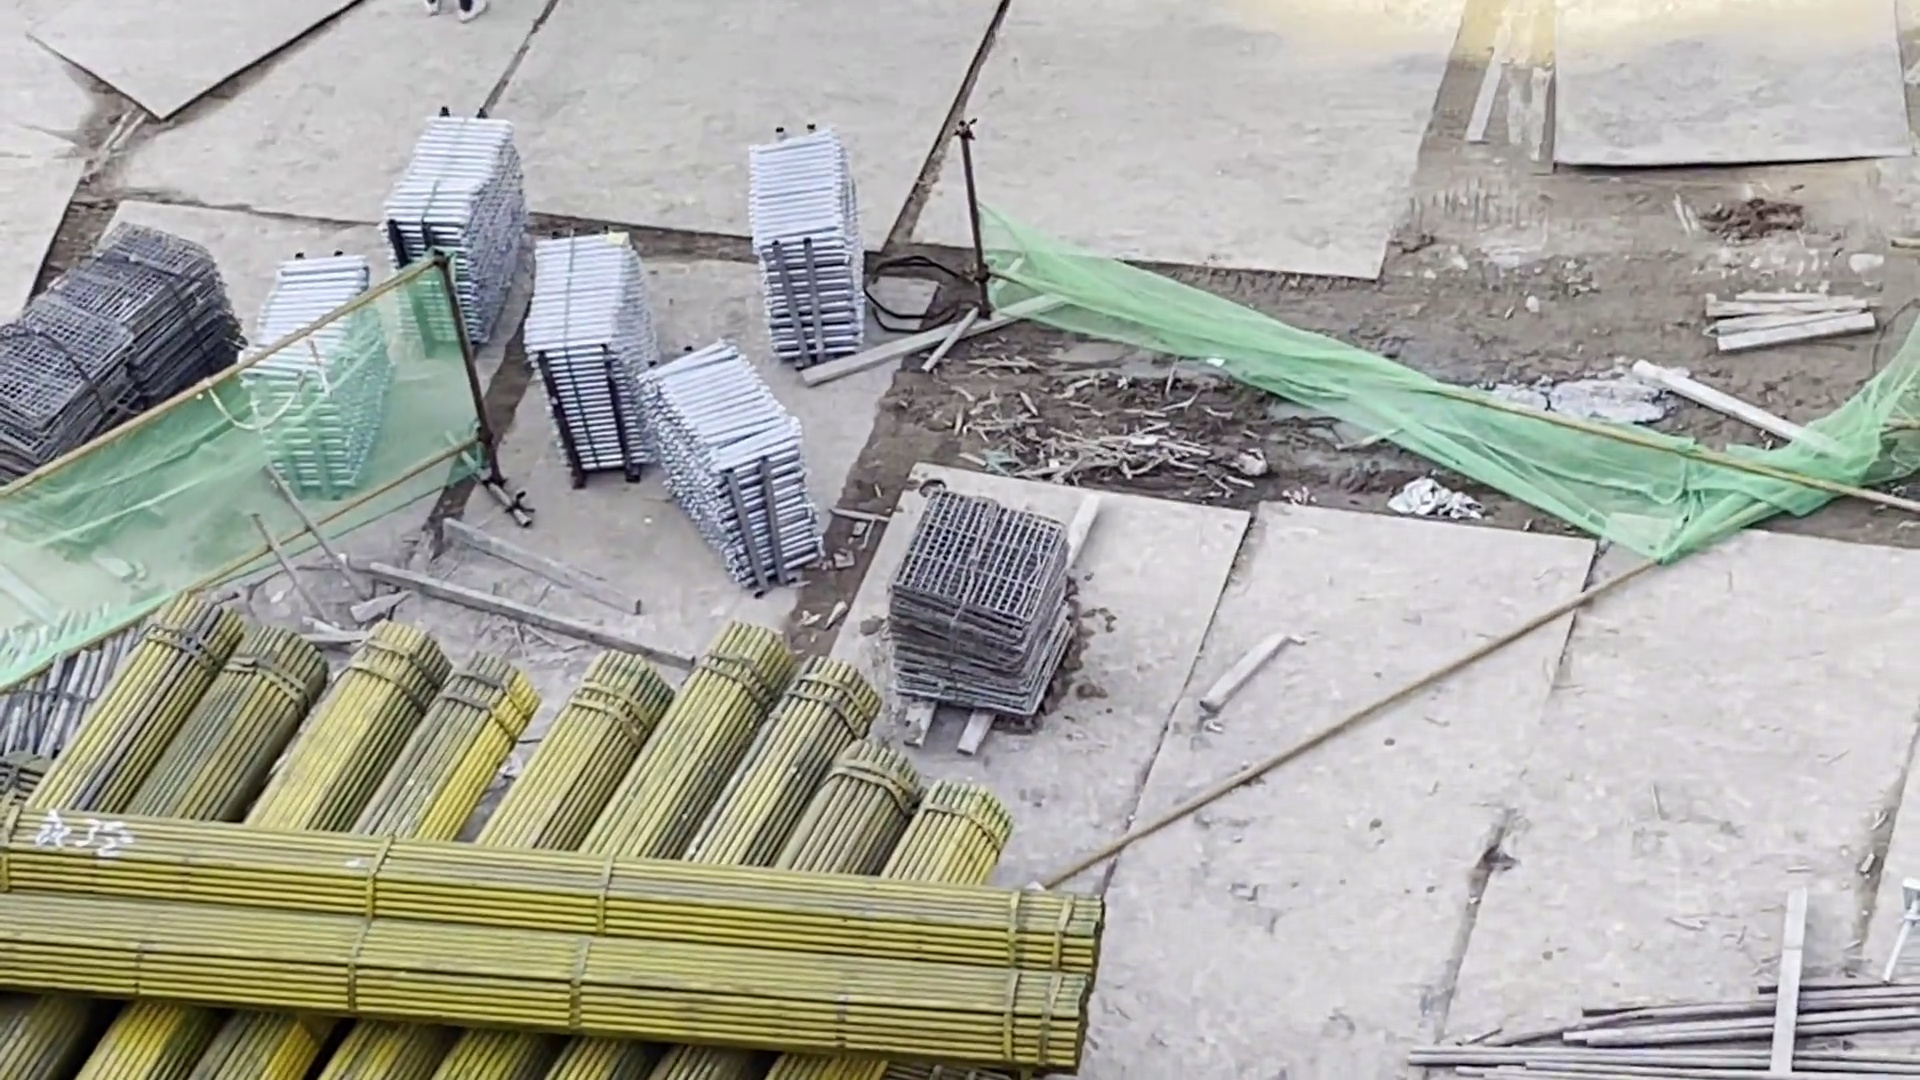scaffold: (640, 353, 825, 579), (510, 222, 657, 481), (378, 100, 516, 357), (247, 237, 380, 481), (745, 127, 872, 360)
